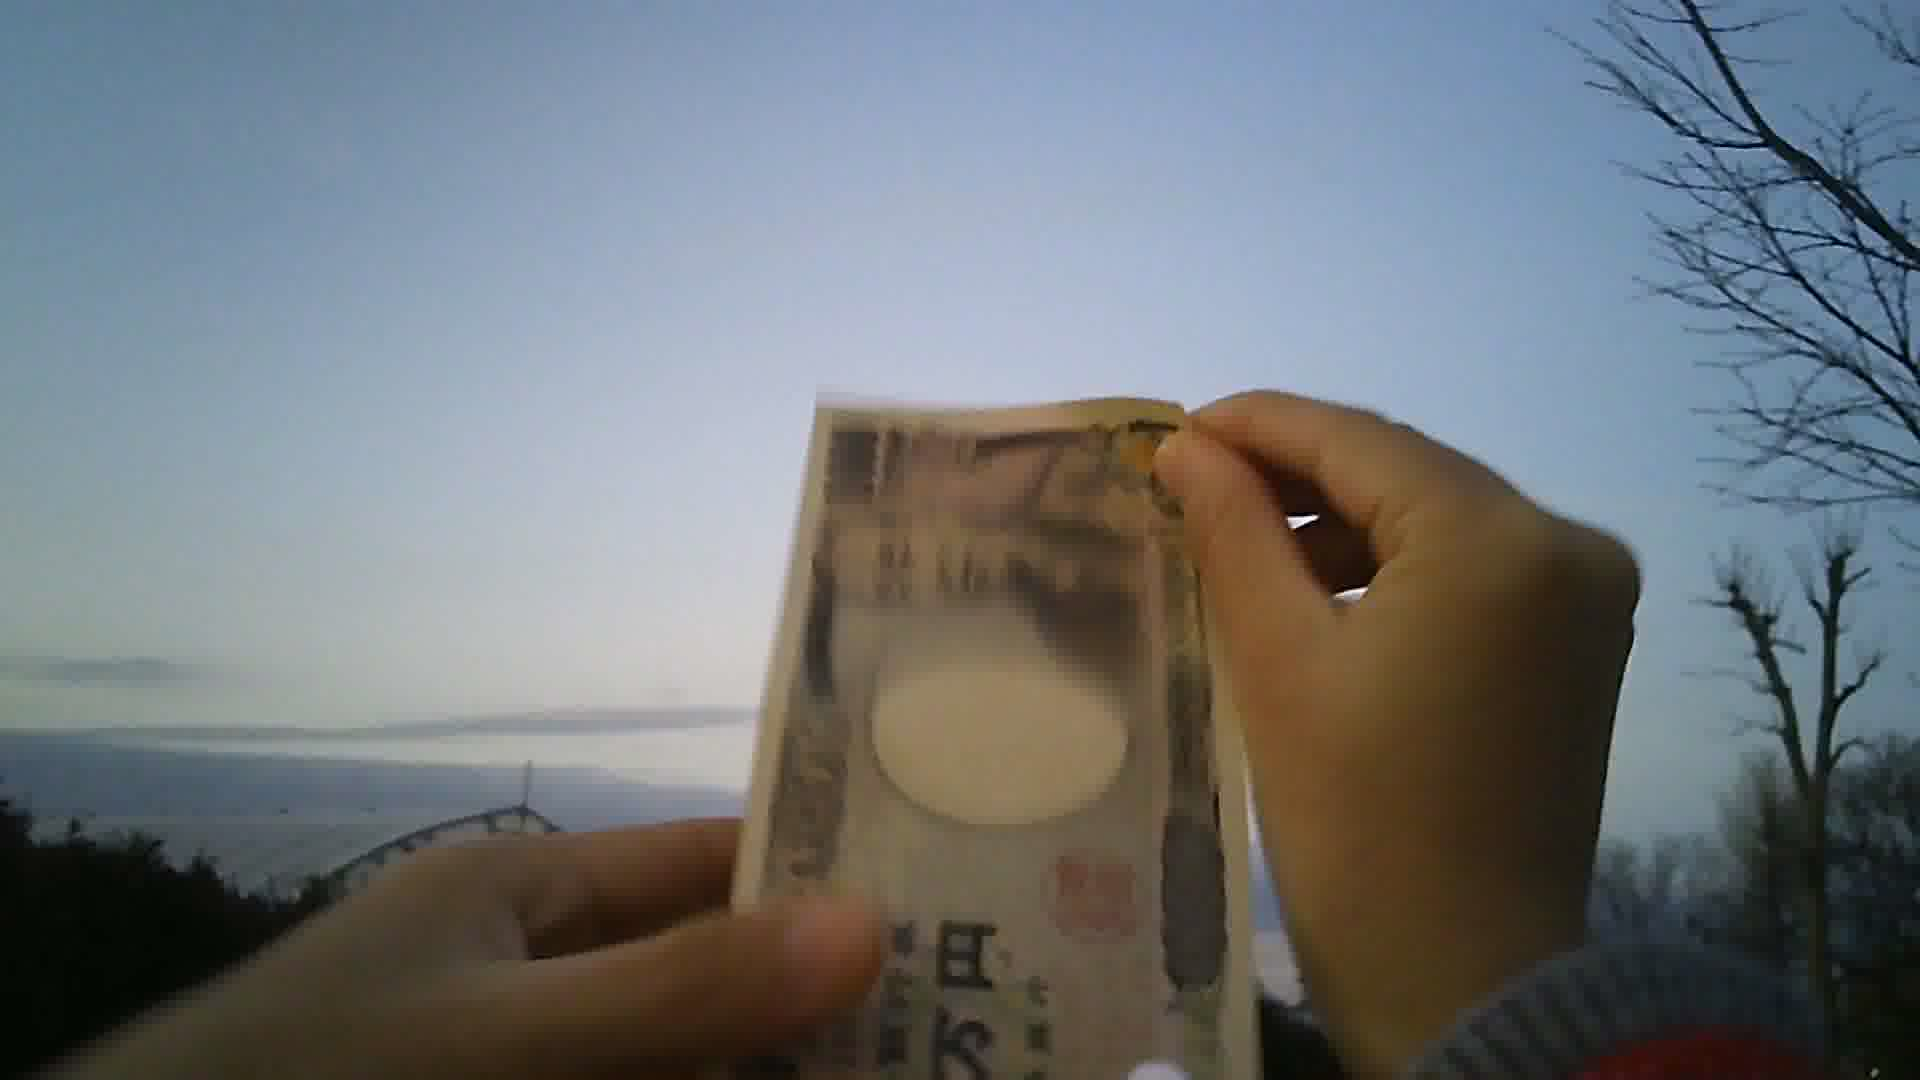10,000 Yen: (723, 393, 1273, 1079)
